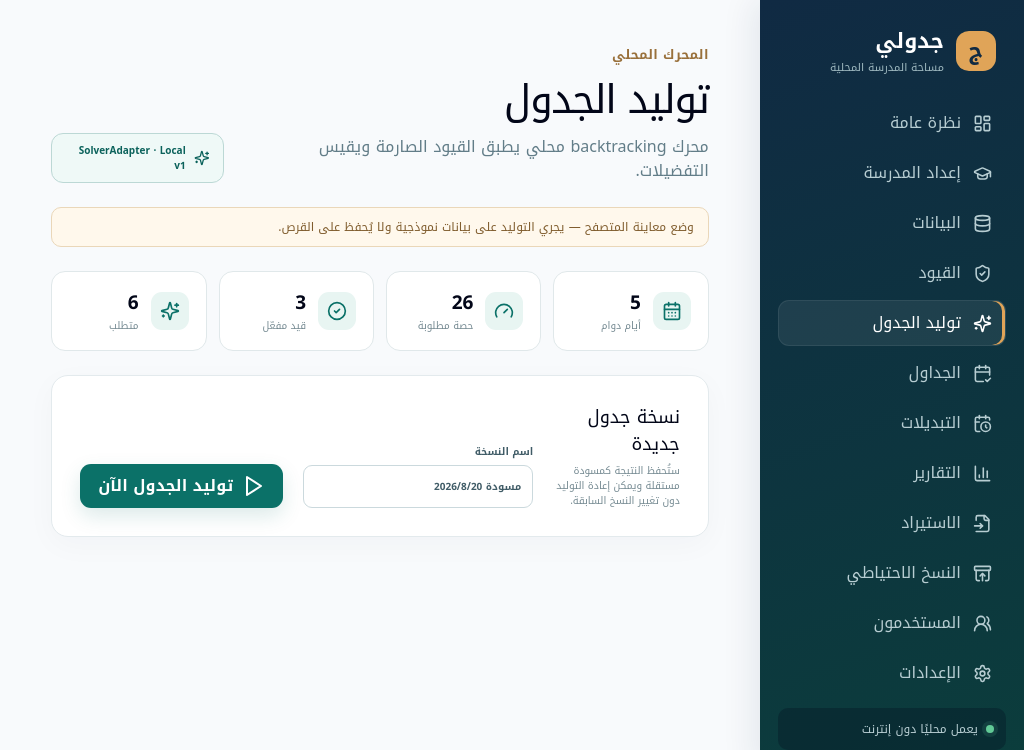
Test: generates a local timetable and opens the weekly grid
The width and height of the screenshot is (1024, 750).
Click the button "توليد الجدول الآن" at (182, 486), box [80,464,283,508]
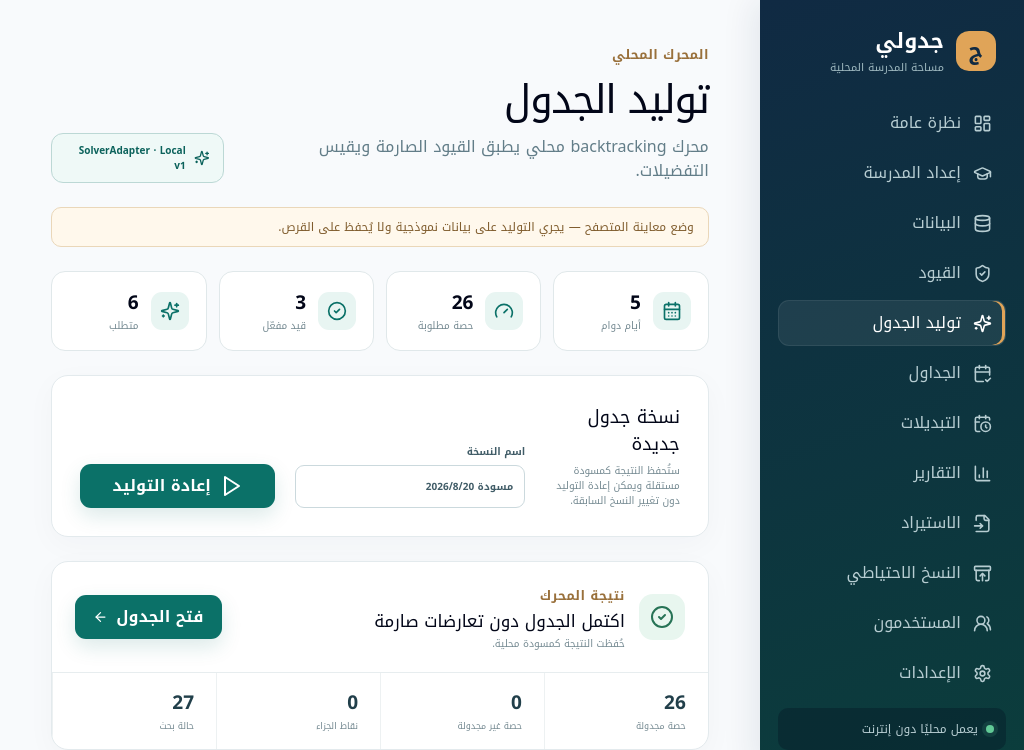
Check: the heading "اكتمل الجدول دون تعارضات صارمة" is shown, box [374,604,625,636]
Click the link "فتح الجدول" at (148, 617), box [75,595,222,639]
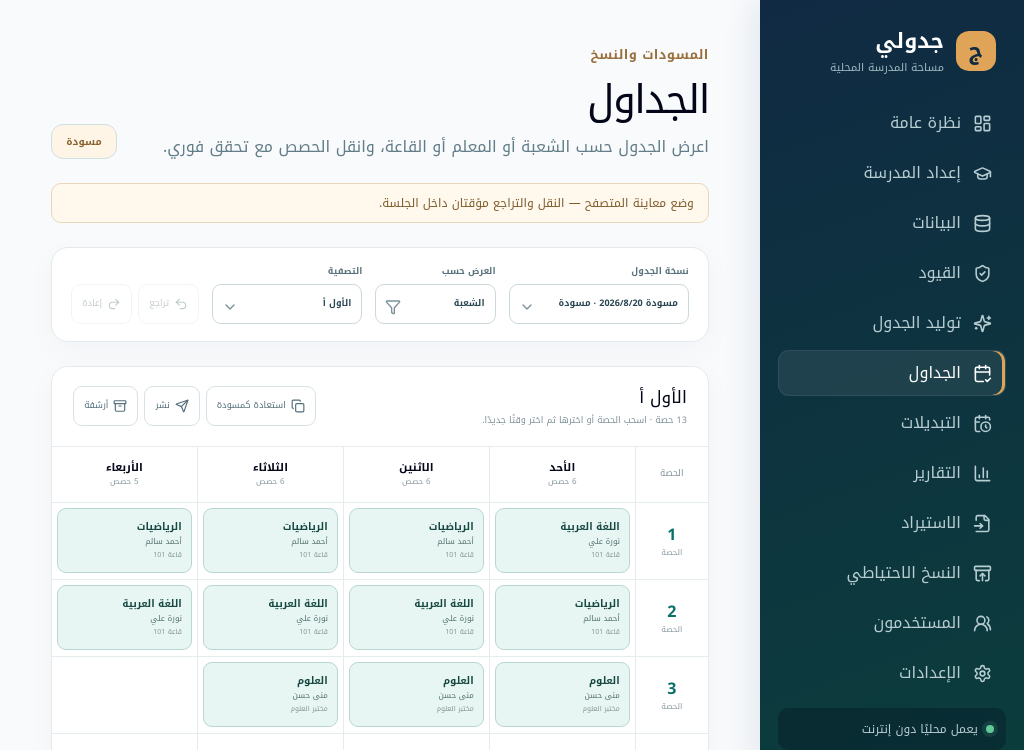
Check: the heading "الجداول" is shown, box [587,62,709,138]
